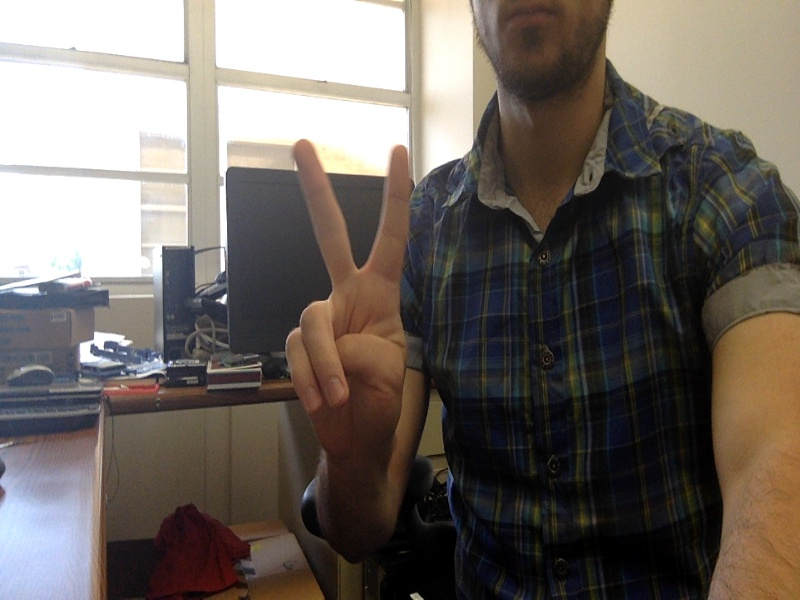2-hand: (284, 141, 413, 452)
